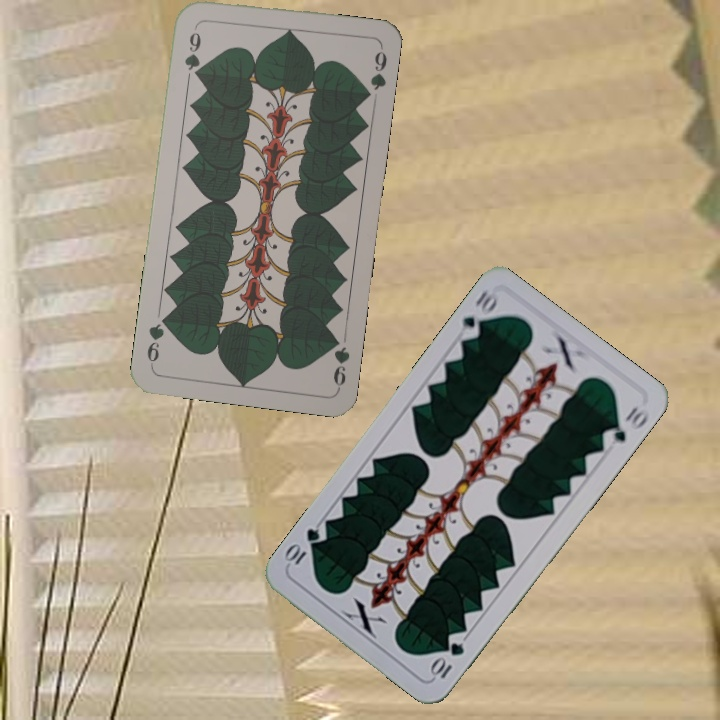G10: (454, 284, 500, 343), (426, 638, 467, 682)
G9: (327, 331, 353, 391), (180, 21, 204, 81)
